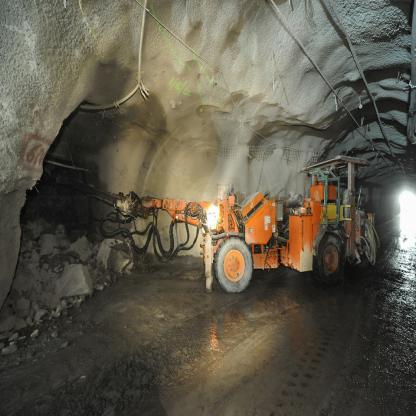bull_dozer/loader/grader: (126, 152, 384, 293)
